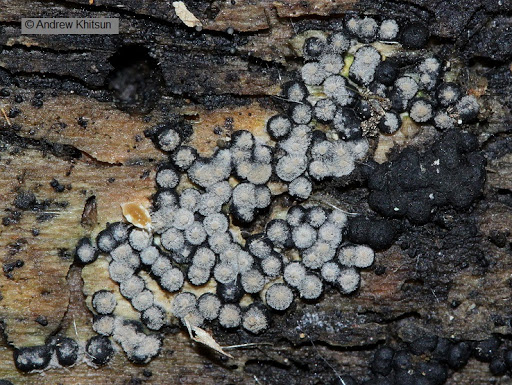pudricion radicular: (82, 76, 403, 358)
